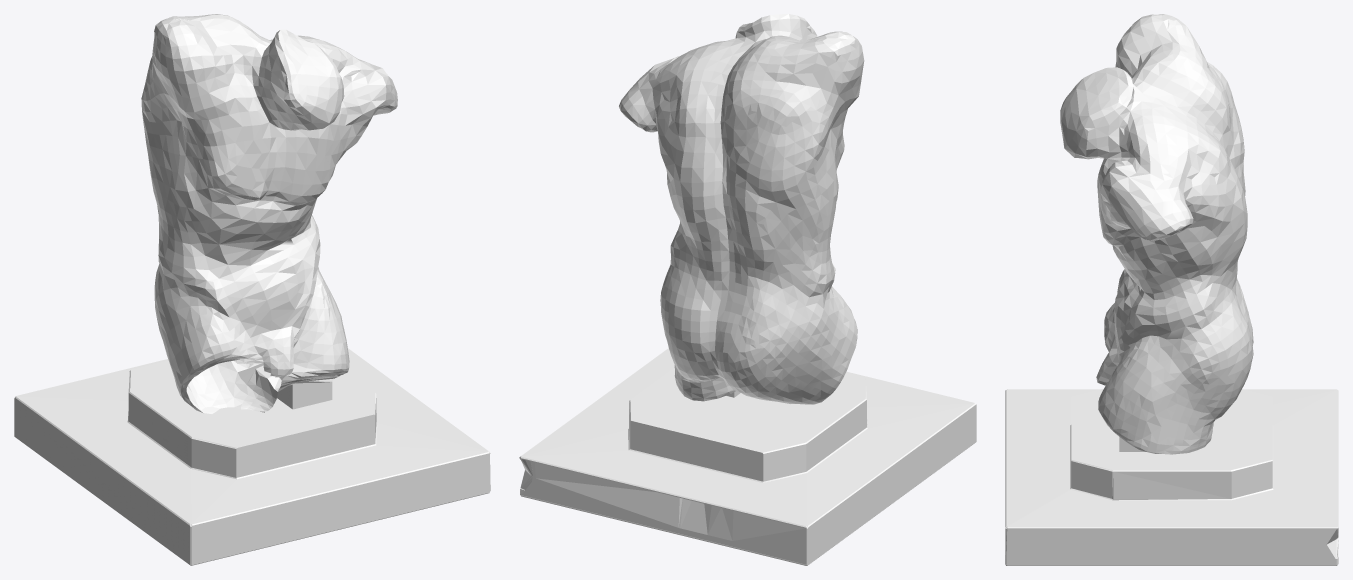
Rendered from Nude.fbx.
3 renders of one model, left to right at view 1: azimuth 30°, elevation 25°; view 2: azimuth 150°, elevation 25°; view 3: azimuth 270°, elevation 25°, orthographic. The views are drawn at different scales.
Parts seen in each view (by area): view 1: Mesh1.0; view 2: Mesh1.0; view 3: Mesh1.0.
Boxes of the visible parts, x1=… form: Mesh1.0: x1=14, y1=14, x2=490, y2=565; Mesh1.0: x1=519, y1=14, x2=976, y2=565; Mesh1.0: x1=1005, y1=14, x2=1338, y2=565.
Bounding box in the file's own units: 128 × 191 × 130.
1 material, 1 textured.
